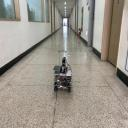cart: (53, 69, 72, 93)
